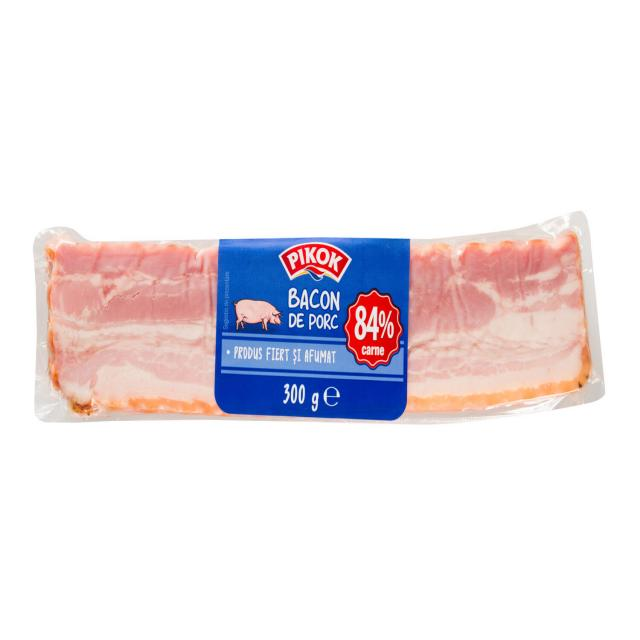bacon: (29, 225, 606, 421)
